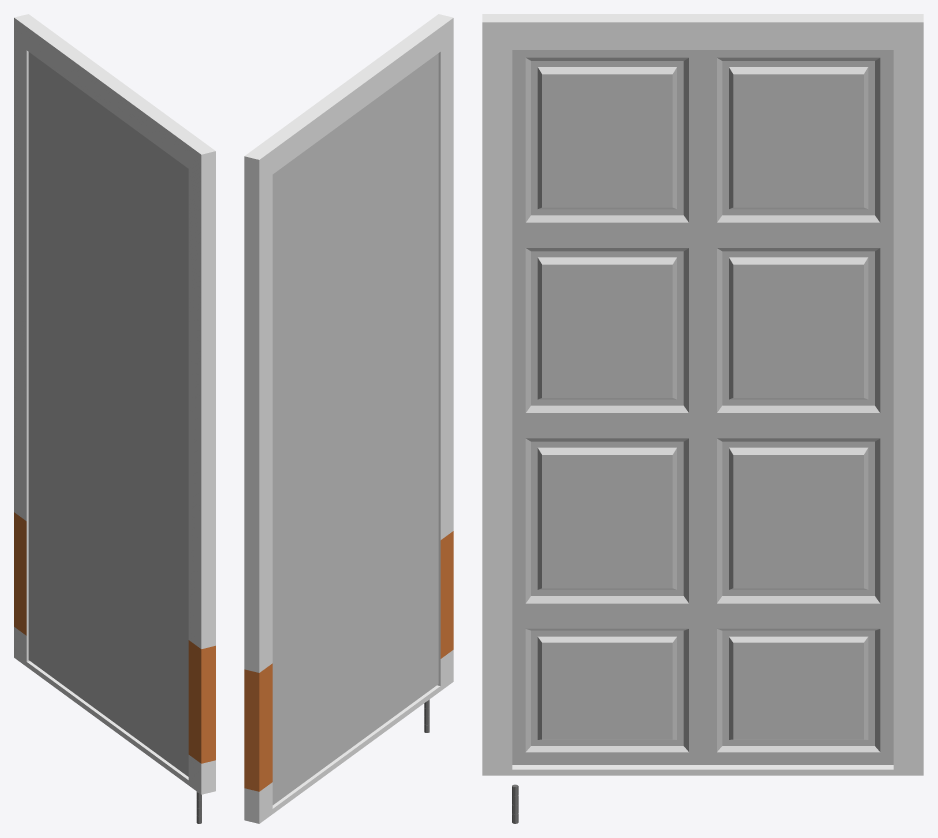
The model's file is Door.fbx.
3 views of the same model, side by side, from view 1: azimuth 30°, elevation 25°; view 2: azimuth 150°, elevation 25°; view 3: azimuth 270°, elevation 25° (orthographic). The views are drawn at different scales.
Parts seen in each view (by area): view 1: Door, Door Frame; view 2: Door, Door Frame; view 3: Door, Door Frame.
Part boxes in pixels (x1,y1,x2,y2): Door: (28,52,188,776); Door Frame: (14,14,215,794); Door: (272,53,438,804); Door Frame: (244,14,453,823); Door: (512,50,893,764); Door Frame: (482,14,923,775).
Bounding box in the file's own units: 35.27 × 1577 × 786.
